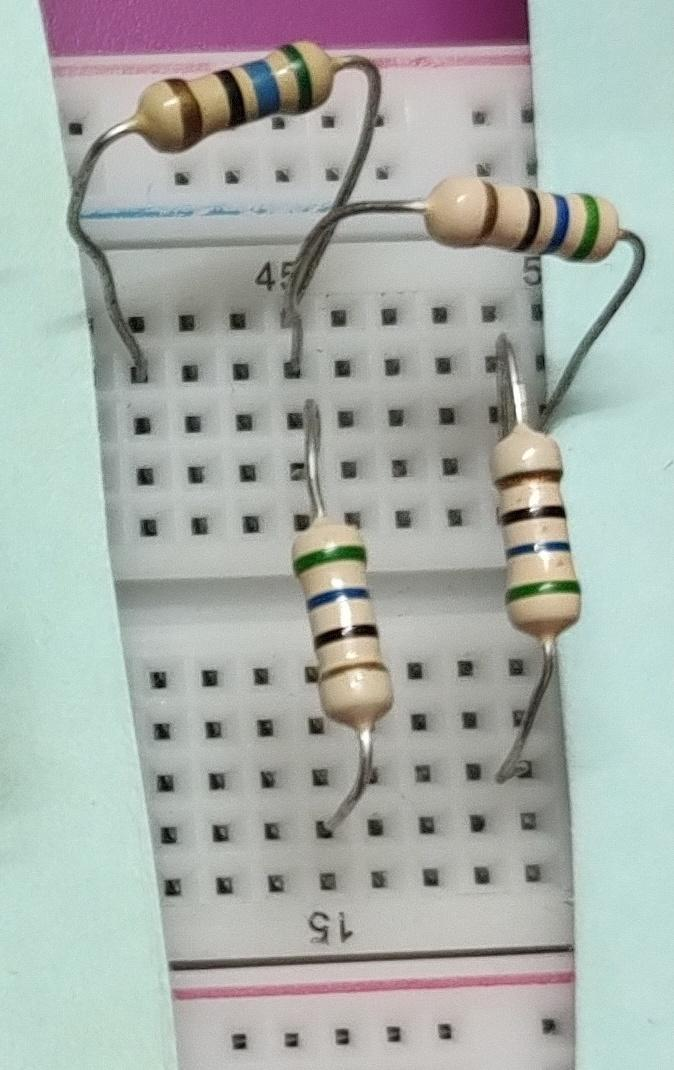resistor: (467, 409, 616, 653), (283, 503, 404, 745), (413, 155, 628, 290), (121, 39, 360, 153)
